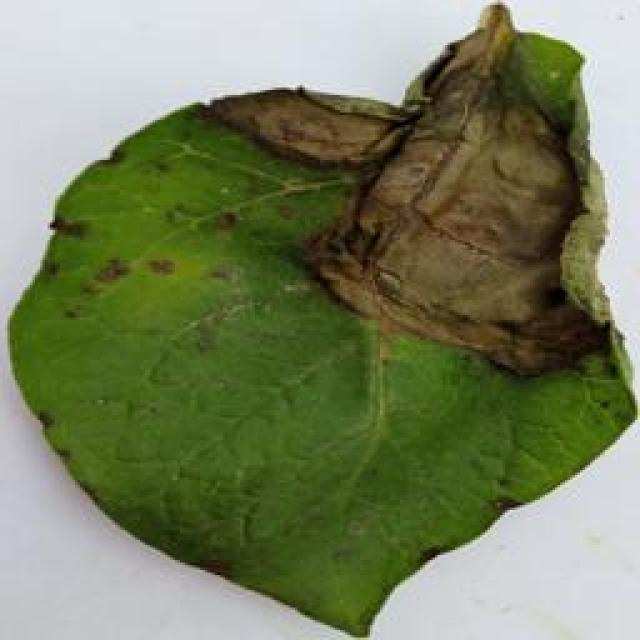Potato_Late_Blight: (8, 5, 627, 617)
